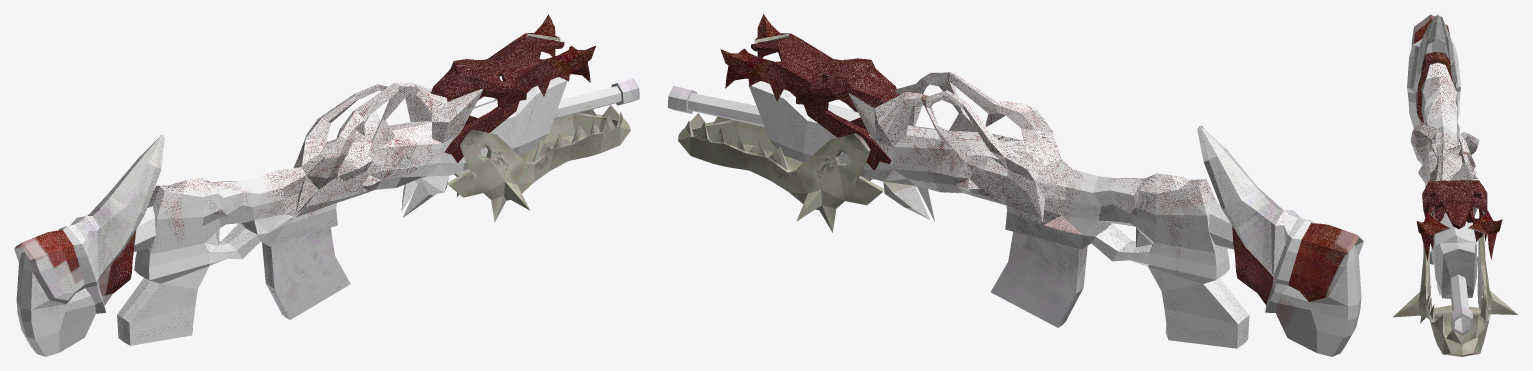
Rendered from weapon_01.fbx.
3 views of the same model, side by side, from view 1: azimuth 30°, elevation 25°; view 2: azimuth 150°, elevation 25°; view 3: azimuth 270°, elevation 25° (orthographic). The views are drawn at different scales.
Visible parts, largest first — view 1: weaponlp, sullbottomlowpoly, skulltoplp; view 2: weaponlp, sullbottomlowpoly, skulltoplp; view 3: weaponlp, sullbottomlowpoly, skulltoplp.
Boxes of the visible parts, bbox=[...] form: weaponlp: bbox=[14, 77, 639, 356]; sullbottomlowpoly: bbox=[447, 105, 630, 222]; skulltoplp: bbox=[431, 14, 595, 162]; weaponlp: bbox=[668, 72, 1363, 356]; sullbottomlowpoly: bbox=[678, 113, 884, 232]; skulltoplp: bbox=[720, 14, 898, 169]; weaponlp: bbox=[1407, 14, 1479, 335]; sullbottomlowpoly: bbox=[1393, 233, 1517, 356]; skulltoplp: bbox=[1416, 180, 1502, 260].
Bounding box in the file's own units: 195 × 64.31 × 34.83.
